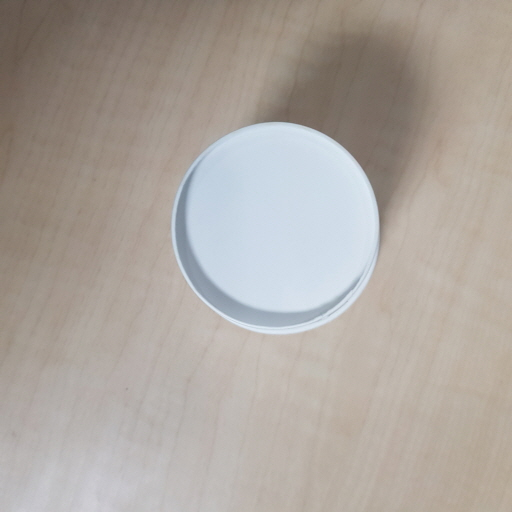Paper_1: (169, 121, 381, 334)
